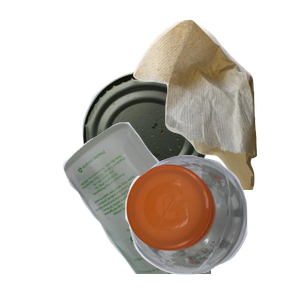glass: (60, 120, 300, 300)
metal: (80, 68, 284, 248)
plastic: (123, 152, 300, 300)
trash: (131, 17, 300, 197)
